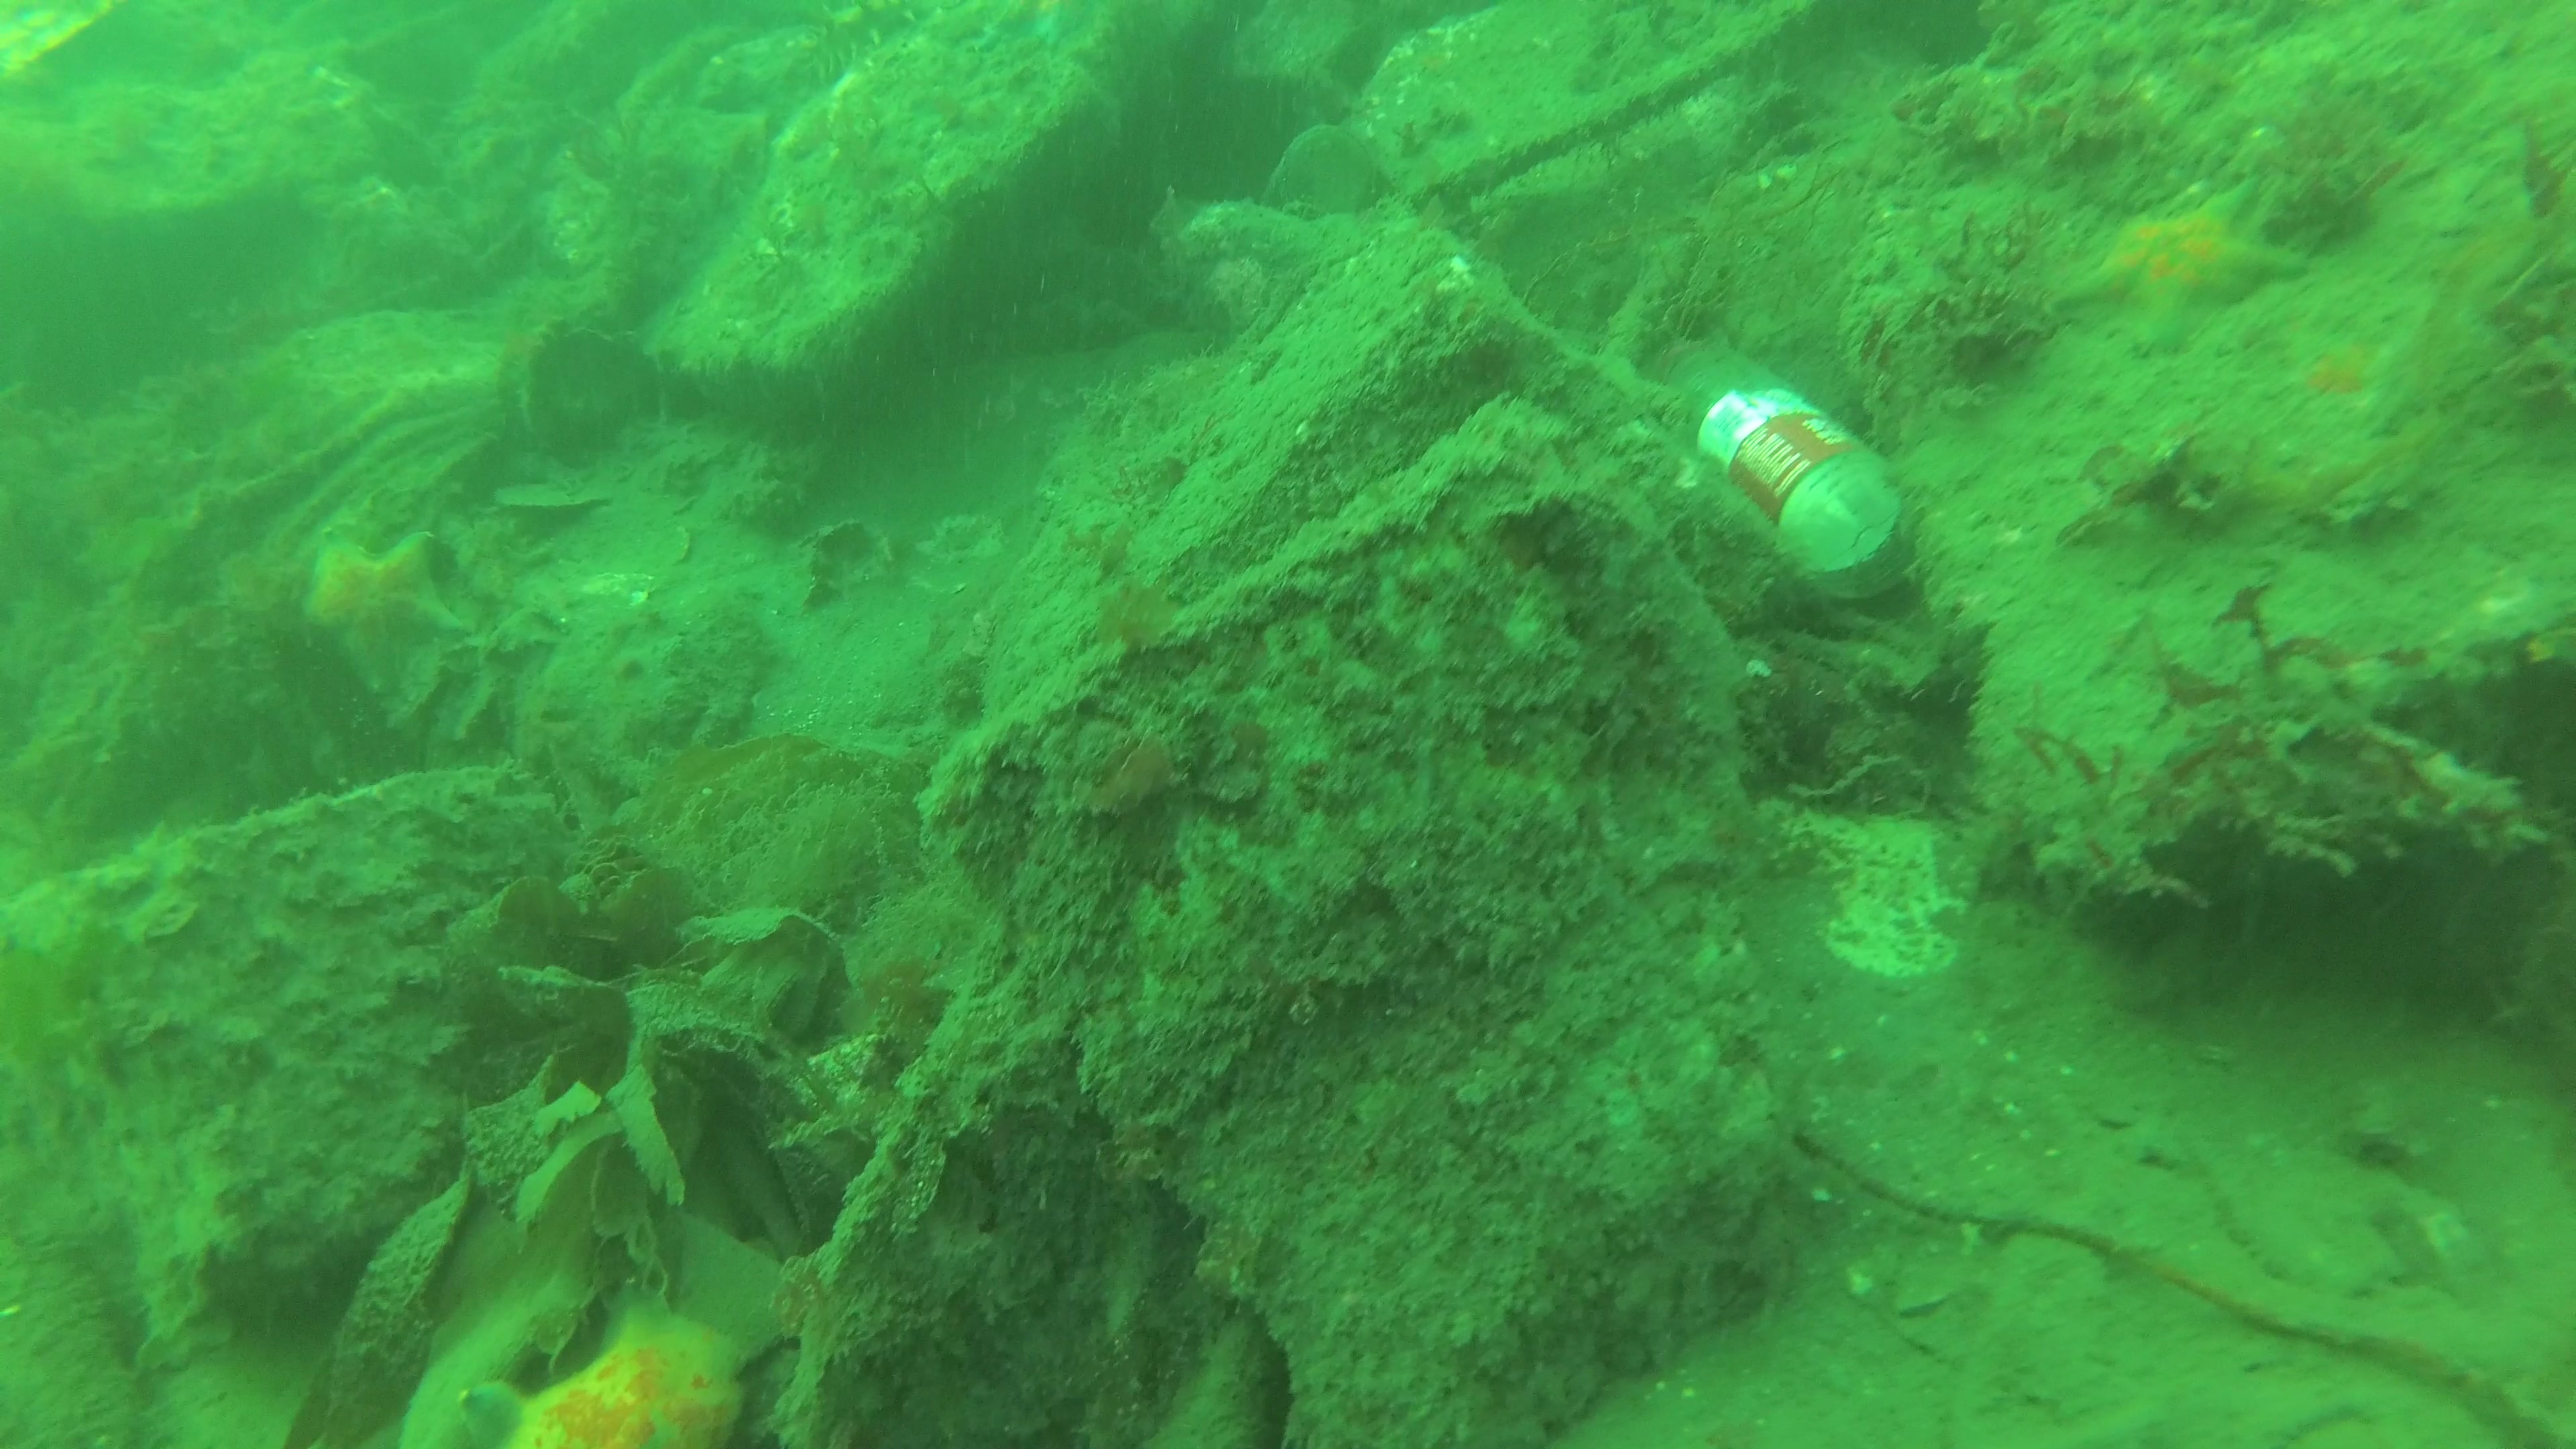starfish: (2038, 166, 2321, 341), (448, 1297, 768, 1449), (288, 525, 485, 702)
